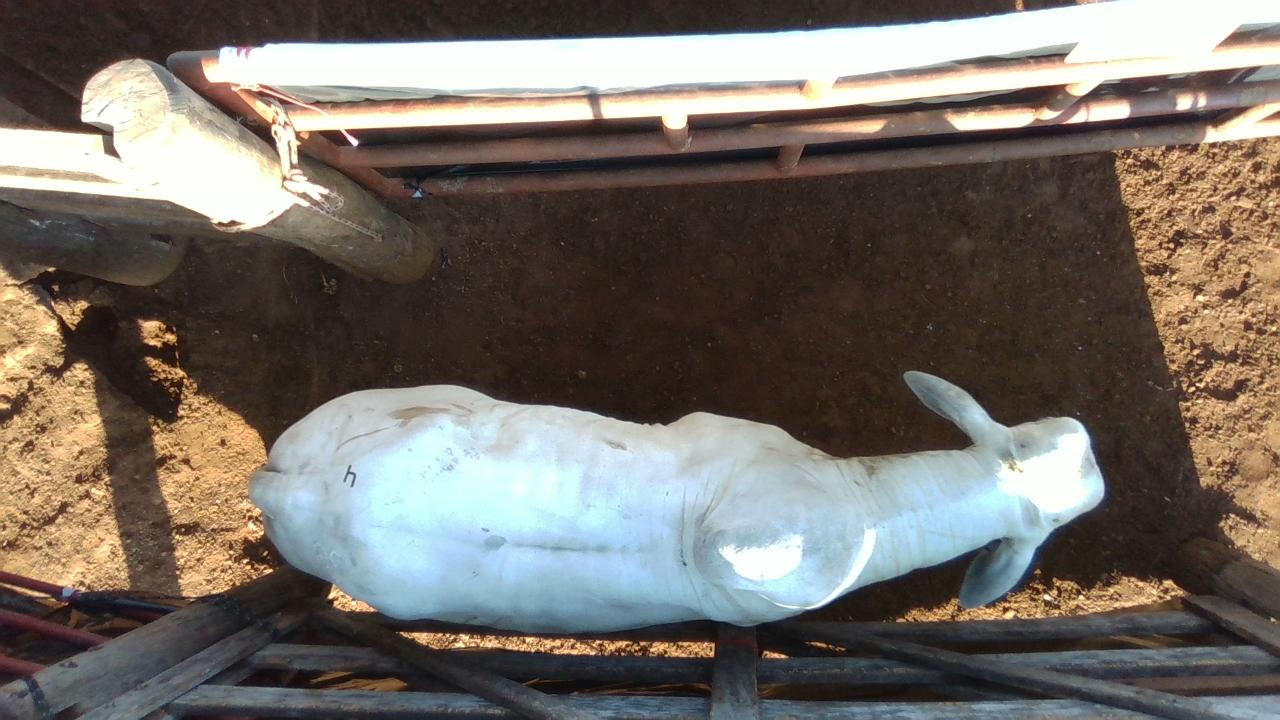cattle: (247, 368, 1106, 635)
